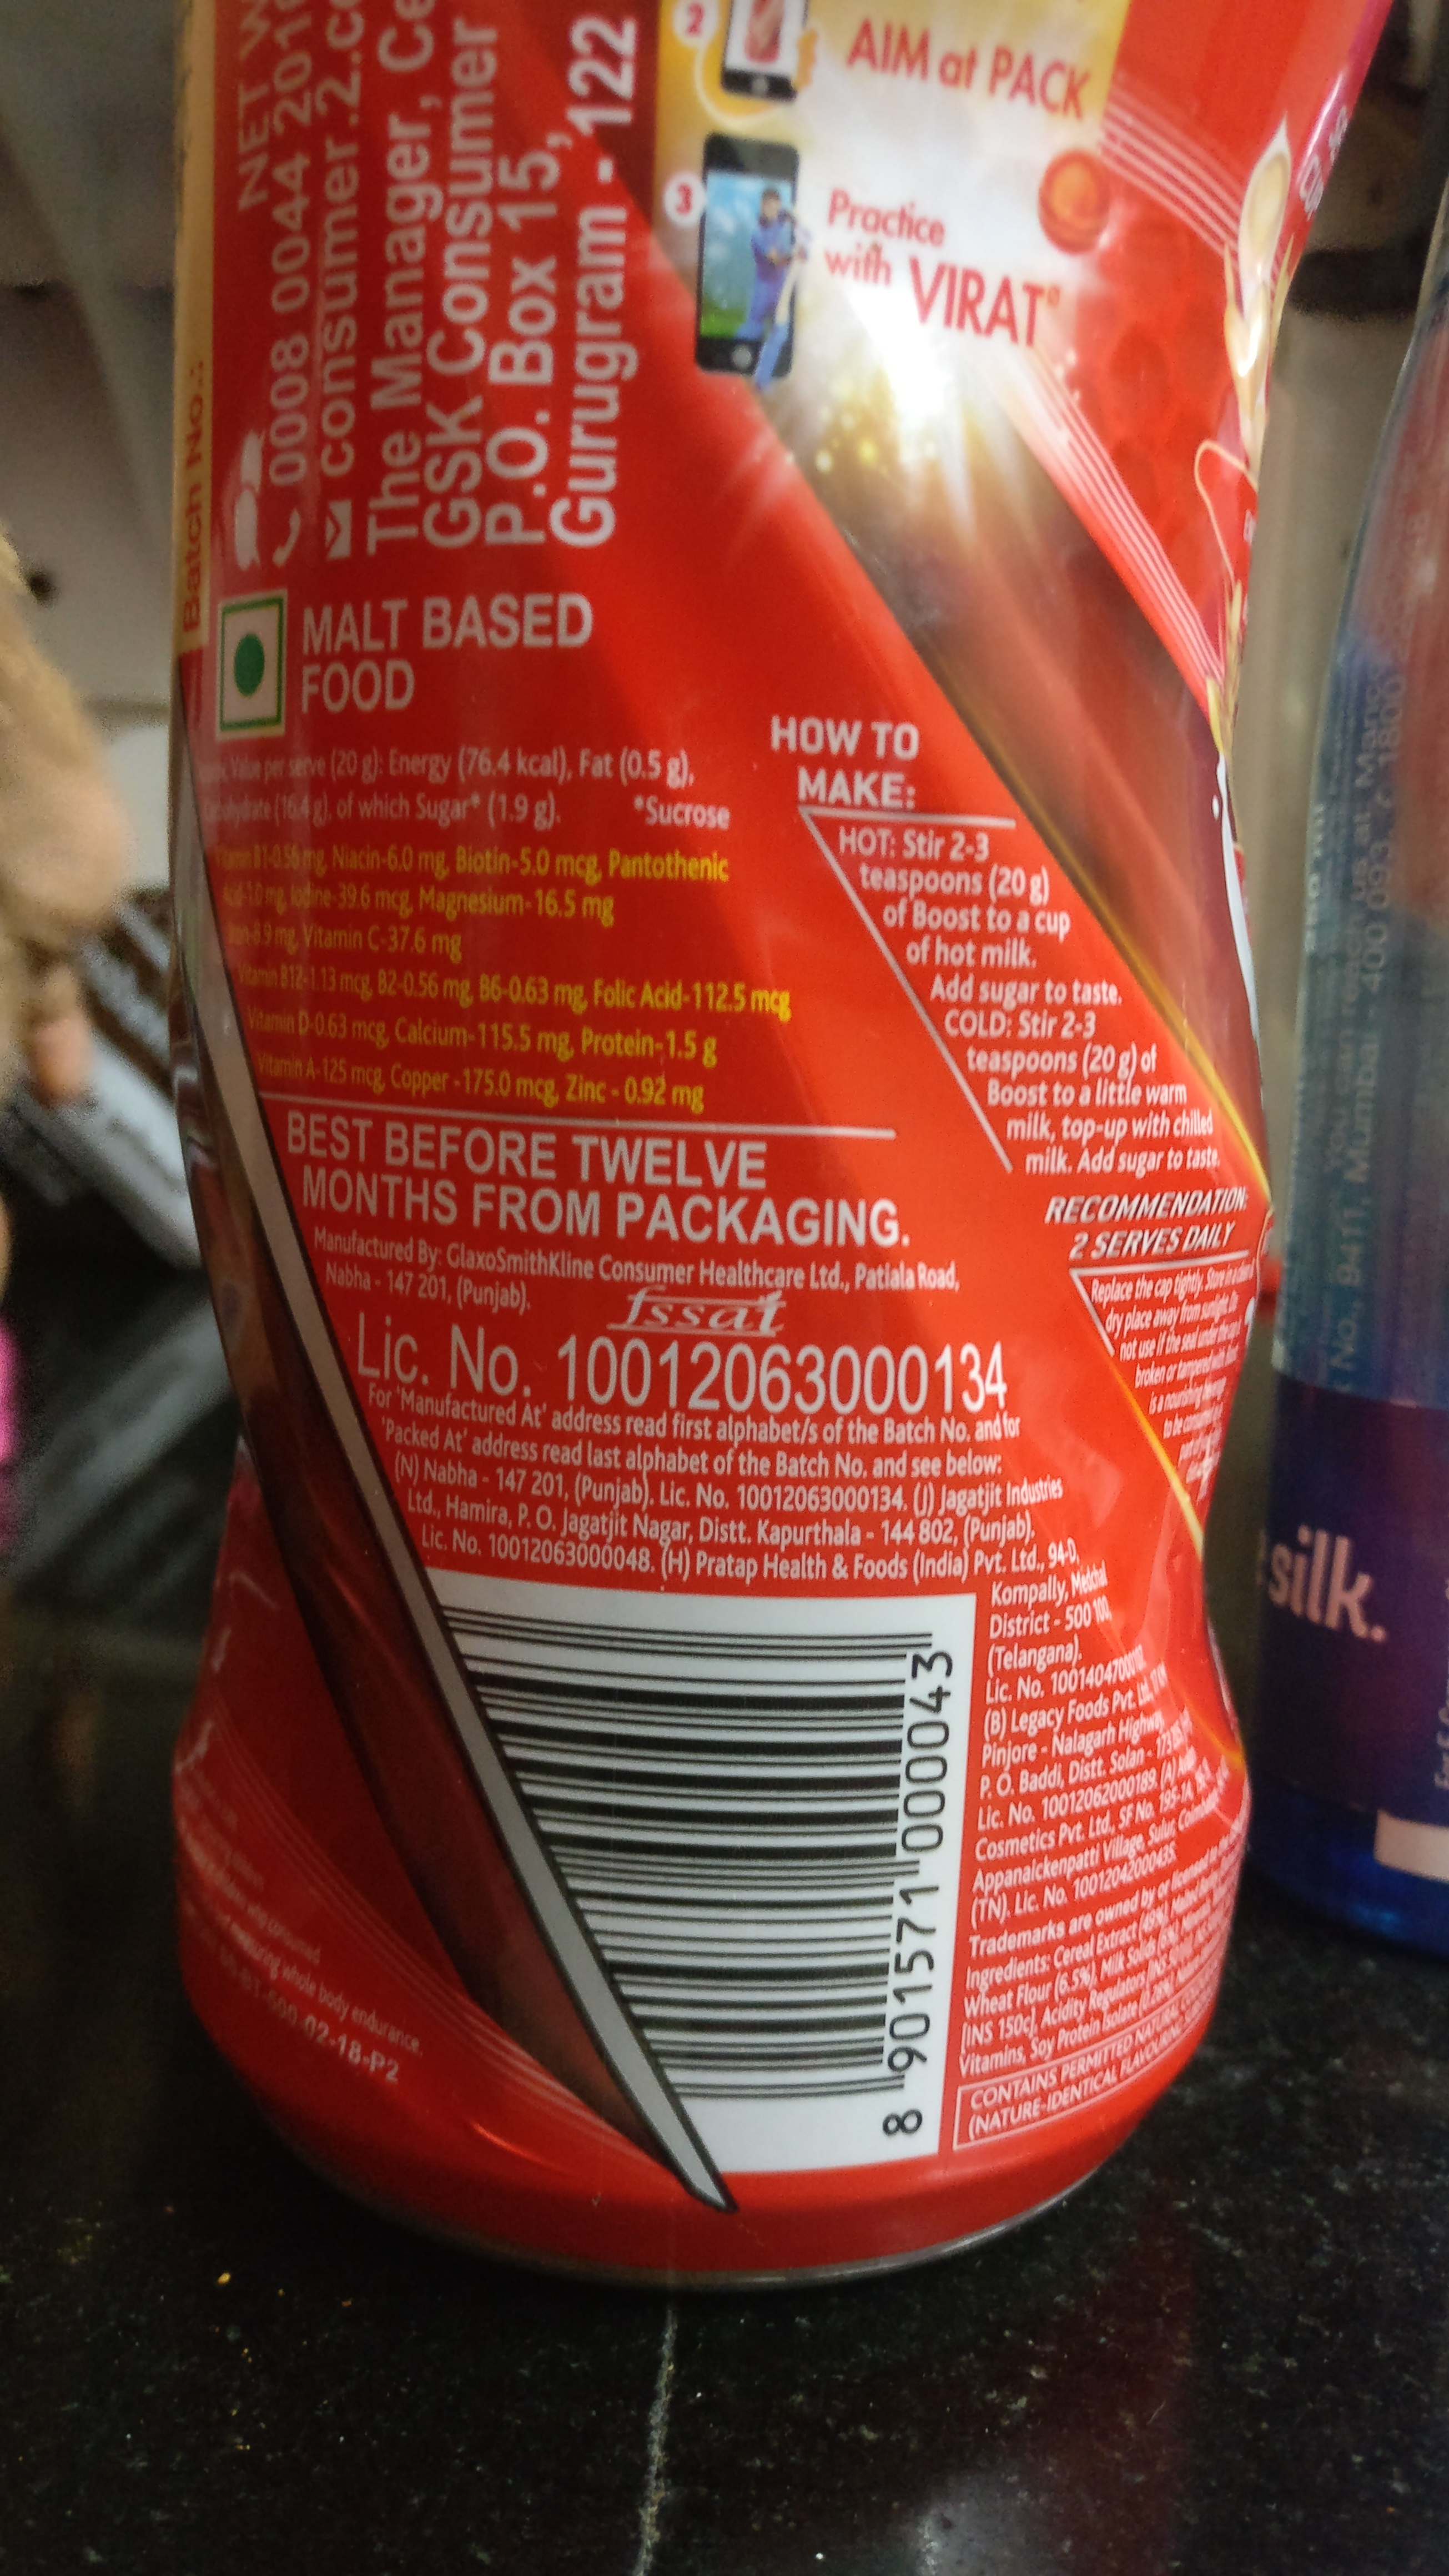barcode: (409, 1537, 964, 2196)
